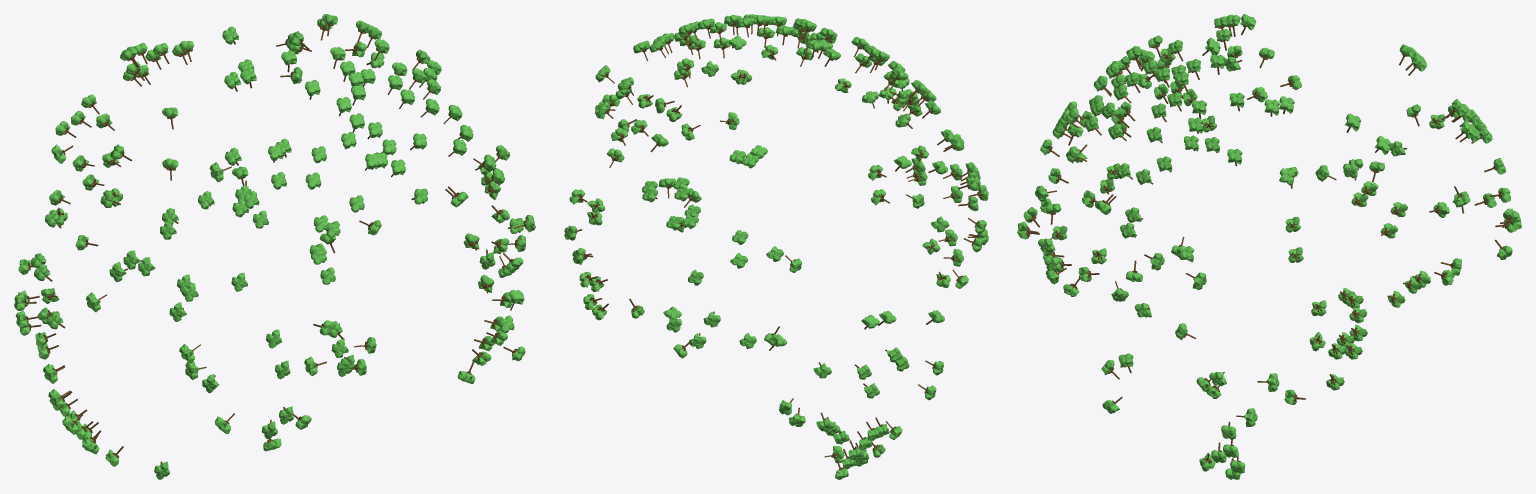
The model's file is arbres.glb.
3 views of the same model, side by side, from view 1: azimuth 30°, elevation 25°; view 2: azimuth 150°, elevation 25°; view 3: azimuth 270°, elevation 25° (orthographic). The views are drawn at different scales.
Parts seen in each view (by area): view 1: Earth; view 2: Earth; view 3: Earth.
Part boxes in pixels (box(x1,y1,x2,y2)): Earth: box(14, 14, 535, 479); Earth: box(564, 14, 988, 479); Earth: box(1017, 14, 1521, 479).
Size of the model in its own units: 2.68 by 2.47 by 2.7.
